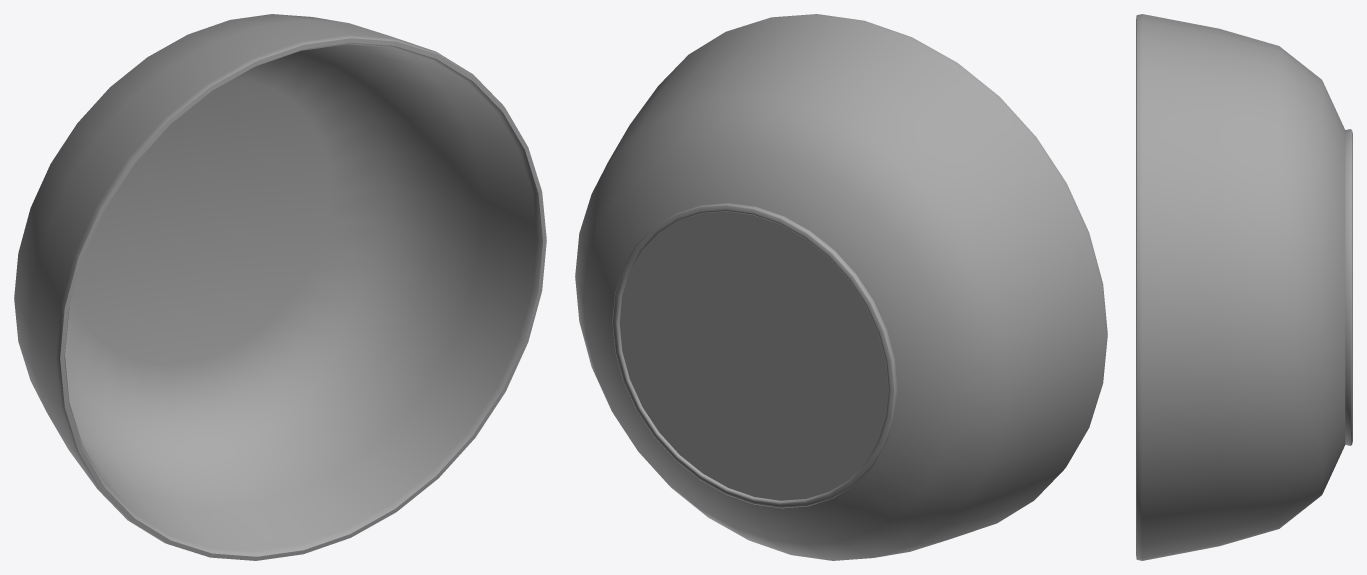
File: MeshBowl_5_0_GeomSubset_0.obj
3 renders of one model, left to right at view 1: azimuth 30°, elevation 25°; view 2: azimuth 150°, elevation 25°; view 3: azimuth 270°, elevation 25°, orthographic. The views are drawn at different scales.
Parts seen in each view (by area): view 1: MeshBowl_5_0_GeomSubset_0; view 2: MeshBowl_5_0_GeomSubset_0; view 3: MeshBowl_5_0_GeomSubset_0.
Boxes of the visible parts, x1,y1,x2,y2 form: MeshBowl_5_0_GeomSubset_0: [14, 14, 546, 560]; MeshBowl_5_0_GeomSubset_0: [575, 14, 1107, 560]; MeshBowl_5_0_GeomSubset_0: [1136, 14, 1352, 560].
Bounding box in the file's own units: 0.182 × 0.182 × 0.0721.
